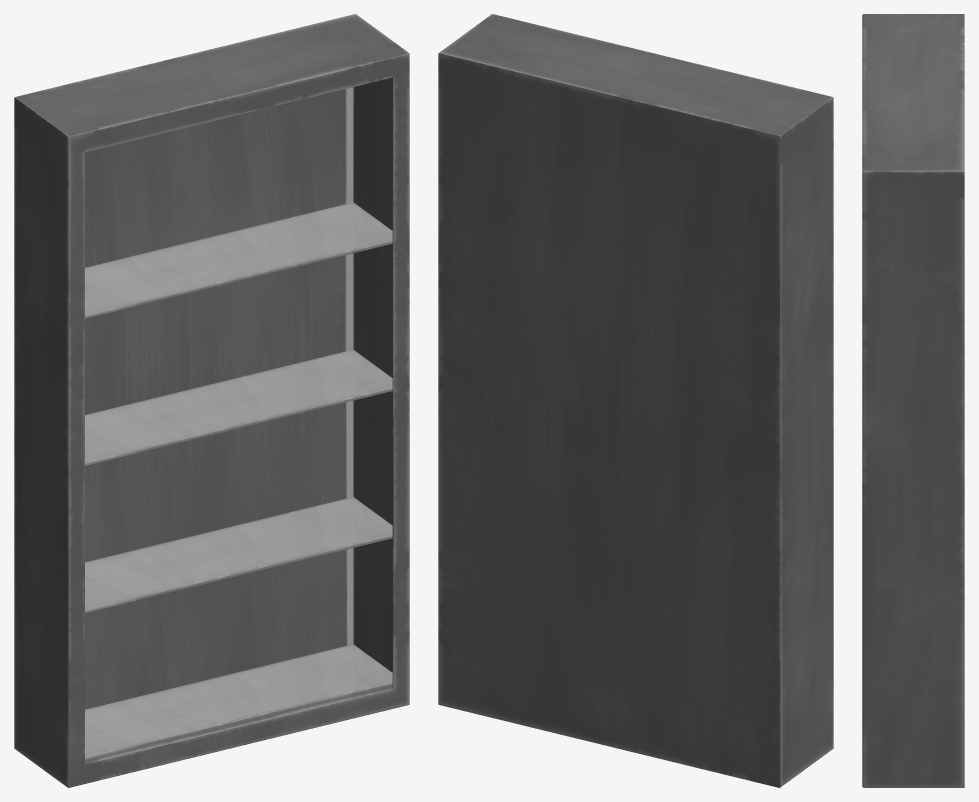
The model's file is shelf.fbx.
3 views of the same model, side by side, from view 1: azimuth 30°, elevation 25°; view 2: azimuth 150°, elevation 25°; view 3: azimuth 270°, elevation 25° (orthographic). The views are drawn at different scales.
Visible parts, largest first — view 1: ShelfBig_; view 2: ShelfBig_; view 3: ShelfBig_.
Boxes of the visible parts, x1=… form: ShelfBig_: x1=14, y1=14, x2=409, y2=787; ShelfBig_: x1=438, y1=14, x2=833, y2=787; ShelfBig_: x1=862, y1=14, x2=964, y2=787.
Size of the model in its own units: 122 by 221 by 33.2.
Materials: 1 (1 with a texture image).
